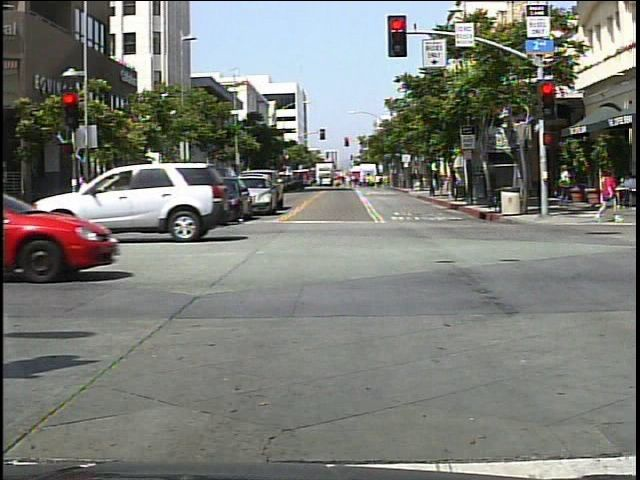person: (73, 172, 105, 236), (594, 167, 626, 229), (555, 162, 578, 213)
